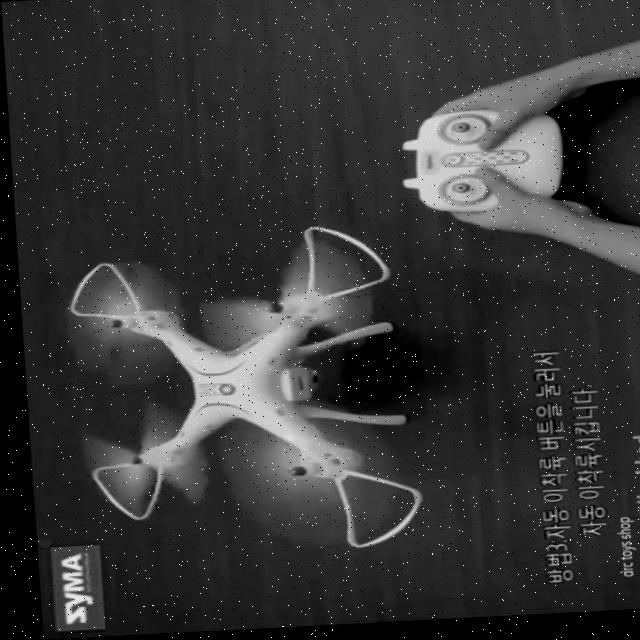drone: (53, 223, 425, 563)
